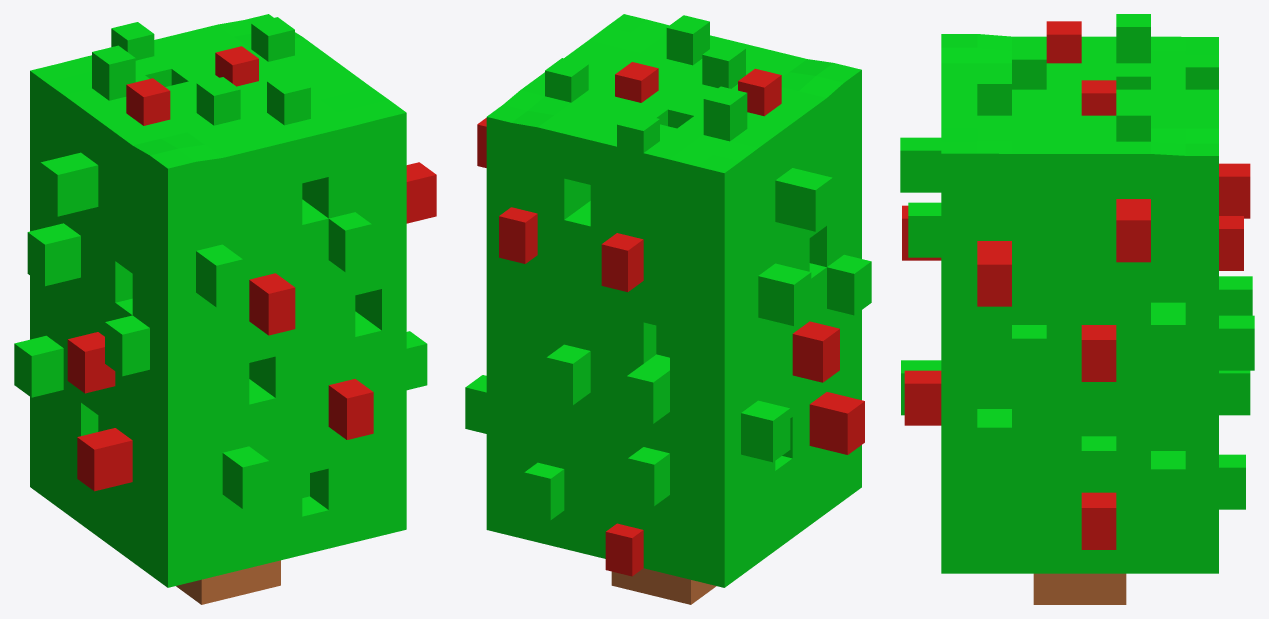
The model's file is tree_sec.glb.
3 views of the same model, side by side, from view 1: azimuth 30°, elevation 25°; view 2: azimuth 150°, elevation 25°; view 3: azimuth 270°, elevation 25° (orthographic).
Parts seen in each view (by area): view 1: Куб, Cube; view 2: Куб, Cube; view 3: Куб, Cube.
Part boxes in pixels (box(x1,y1,x2,y2)): Куб: box(14, 14, 436, 587); Cube: box(176, 560, 280, 604); Куб: box(465, 14, 871, 587); Cube: box(611, 568, 716, 604); Куб: box(900, 14, 1254, 573); Cube: box(1033, 573, 1126, 604).
Bounding box in the file's own units: 8.22 × 12.55 × 7.65.
